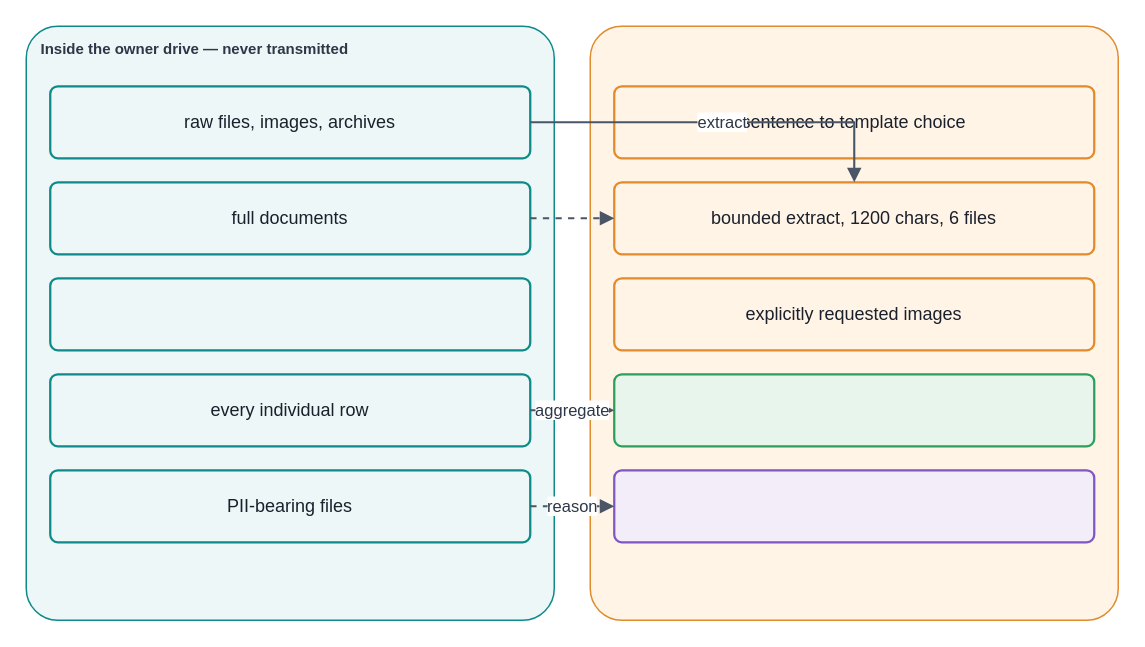
This 1145x647 diagram has some shape labels left out. Here are the shapes that lost their labels. From the top down, the box of each, then its label:
(48, 276, 531, 351): plaintext secrets
(589, 25, 1118, 620): Leaves the drive
(612, 372, 1095, 447): group aggregates, k at least 3
(612, 468, 1095, 543): build receipt with source hashes
